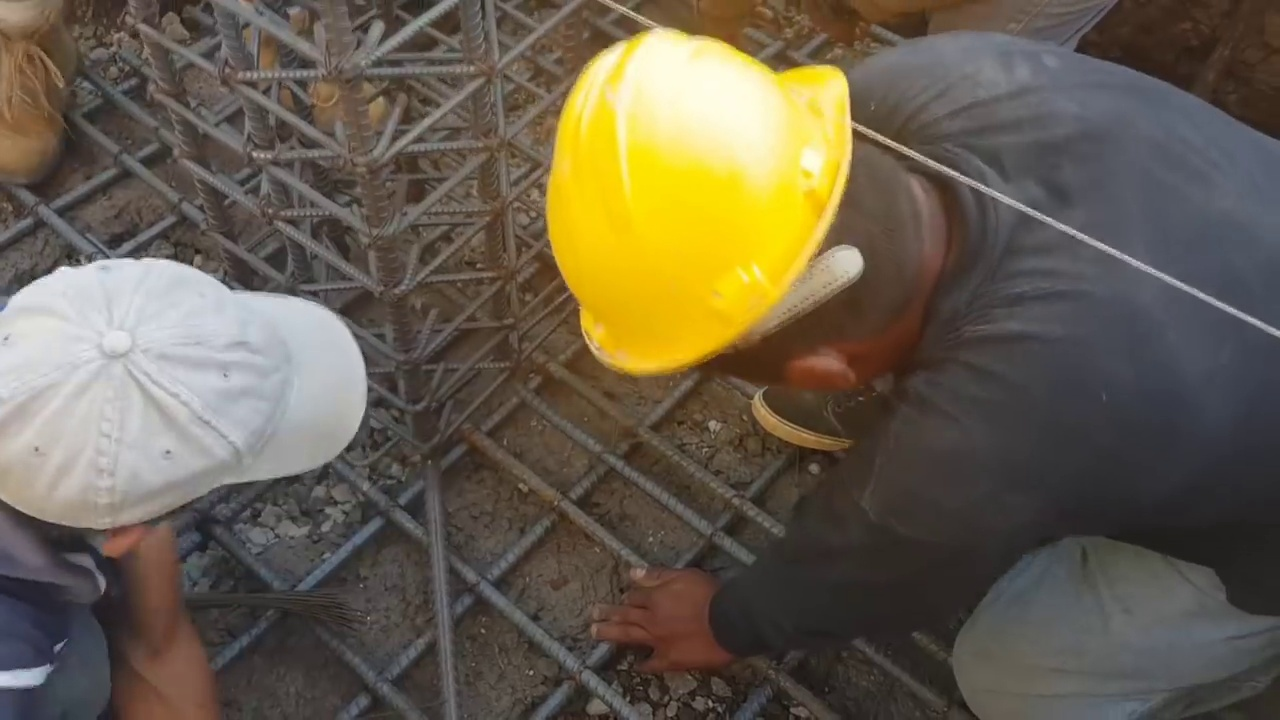helmet: (535, 27, 847, 377)
helmet-off: (0, 258, 364, 562)
helmet-on: (538, 20, 980, 428)
person: (537, 14, 1278, 720), (0, 241, 398, 708)
